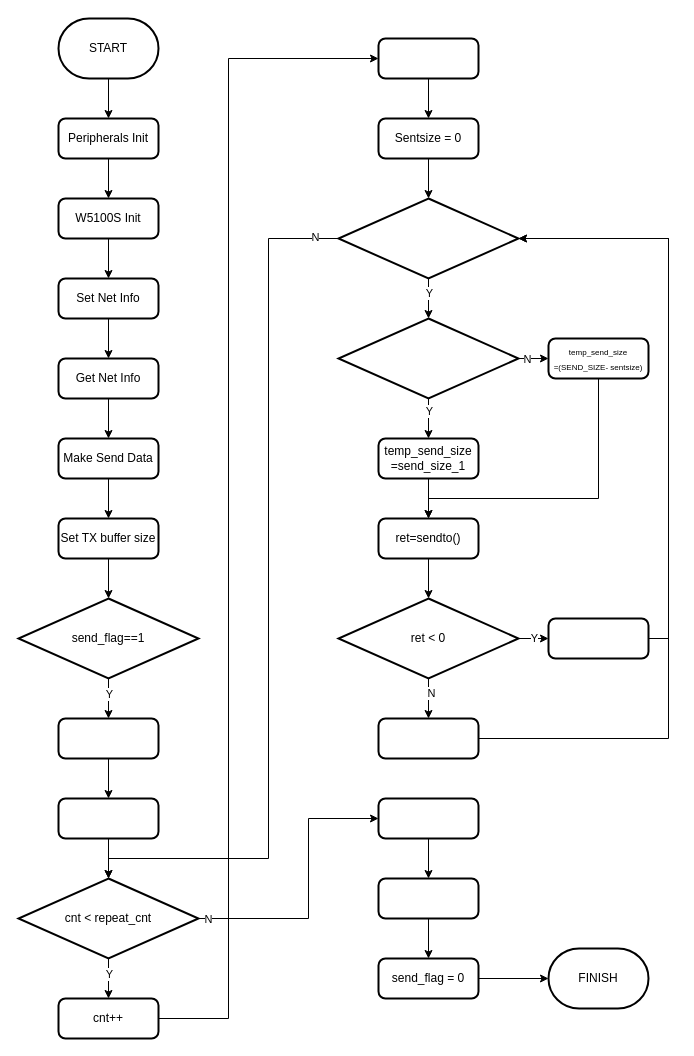
Some shapes in this 694 by 1056 pixel diagram are drawn without their labels. Here are the shapes that lost their labels. From the top down, the box of each, then its label:
(377, 37, 479, 79): send_data[1] = '0'+cnt
(337, 197, 519, 279): sentsize != SEND_SIZE
(337, 317, 519, 399): (SEND_SIZE-sentsize) > send_size_1
(547, 617, 649, 659): Print Error
(57, 717, 159, 759): Save Time1
(377, 717, 479, 759): sentsize += ret
(57, 797, 159, 839): cnt = 0
(377, 797, 479, 839): Save Time2
(377, 877, 479, 919): Print Result
